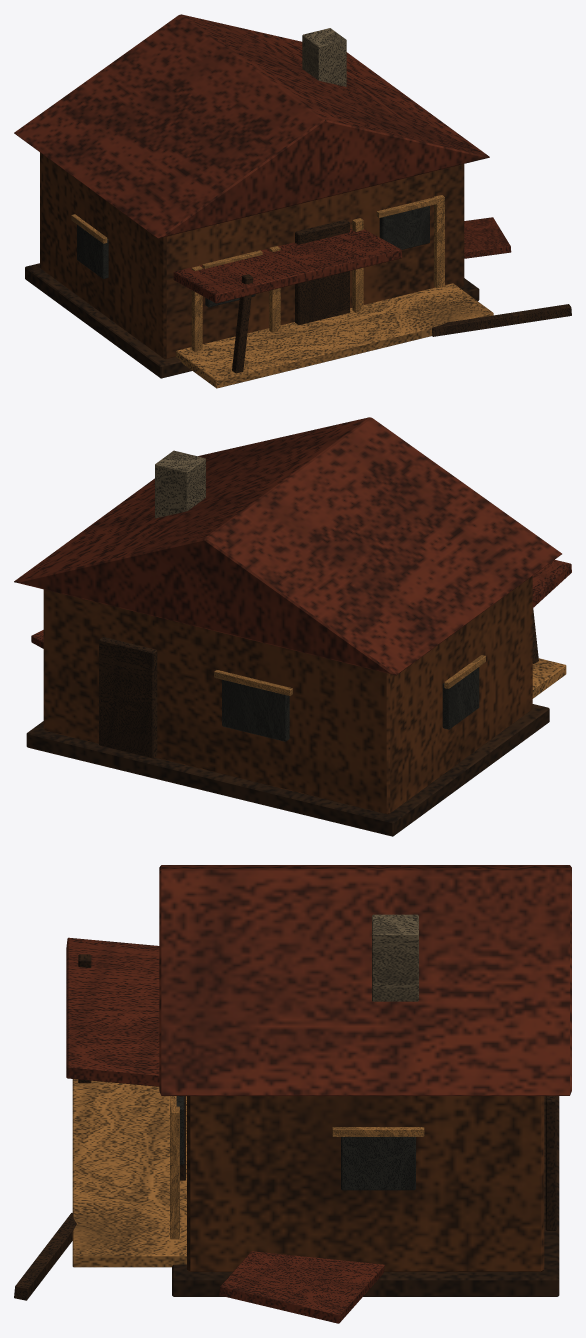
The model's file is abandoned_farmhouse.glb.
3 views of the same model, one above another, from view 1: azimuth 30°, elevation 25°; view 2: azimuth 150°, elevation 25°; view 3: azimuth 270°, elevation 25° (orthographic). The views are drawn at different scales.
Parts seen in each view (by area): view 1: abandoned_farmhouse; view 2: abandoned_farmhouse; view 3: abandoned_farmhouse.
Part boxes in pixels (x1,y1,x2,y2): abandoned_farmhouse: (14, 14, 571, 388); abandoned_farmhouse: (14, 417, 571, 836); abandoned_farmhouse: (14, 865, 571, 1323).
Size of the model in its own units: 7.68 by 4.15 by 6.56.
1 material, 1 textured.
